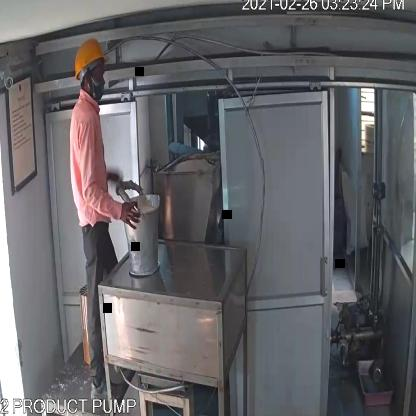helmet: (72, 34, 109, 81)
